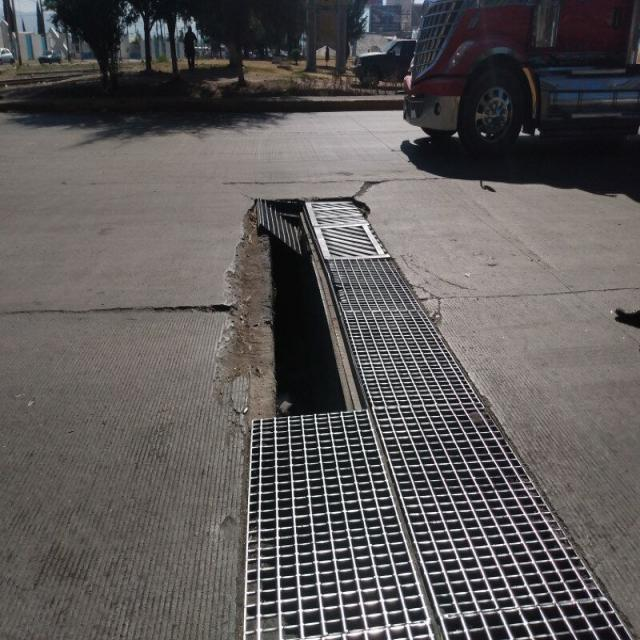Pothole: (178, 153, 370, 446)
